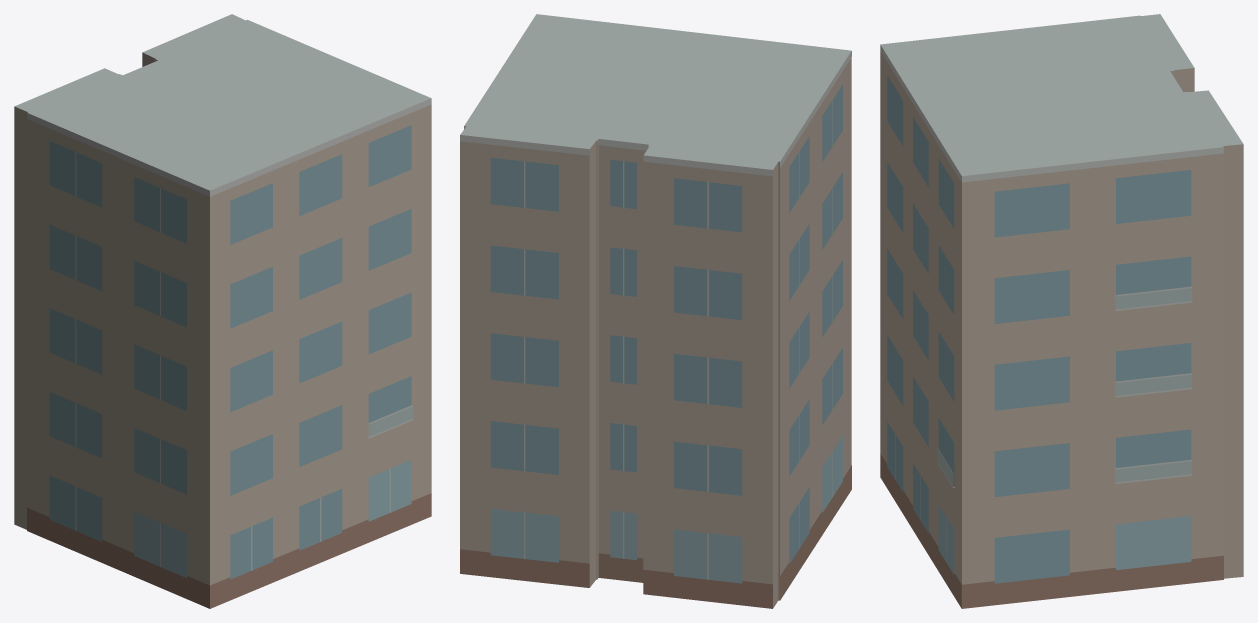
File: survey-upis-32993331.glb
The picture shows the model from 3 angles, left to right: view 1: azimuth 30°, elevation 25°; view 2: azimuth 150°, elevation 25°; view 3: azimuth 270°, elevation 25°; orthographic projection. The views are drawn at different scales.
Parts seen in each view (by area): view 1: survey-upis-32993331.tmp; view 2: survey-upis-32993331.tmp; view 3: survey-upis-32993331.tmp.
Boxes of the visible parts, bbox=[...] form: survey-upis-32993331.tmp: bbox=[14, 14, 431, 608]; survey-upis-32993331.tmp: bbox=[460, 14, 851, 608]; survey-upis-32993331.tmp: bbox=[880, 14, 1243, 608].
Bounding box in the file's own units: 13.43 × 16.7 × 12.72.
